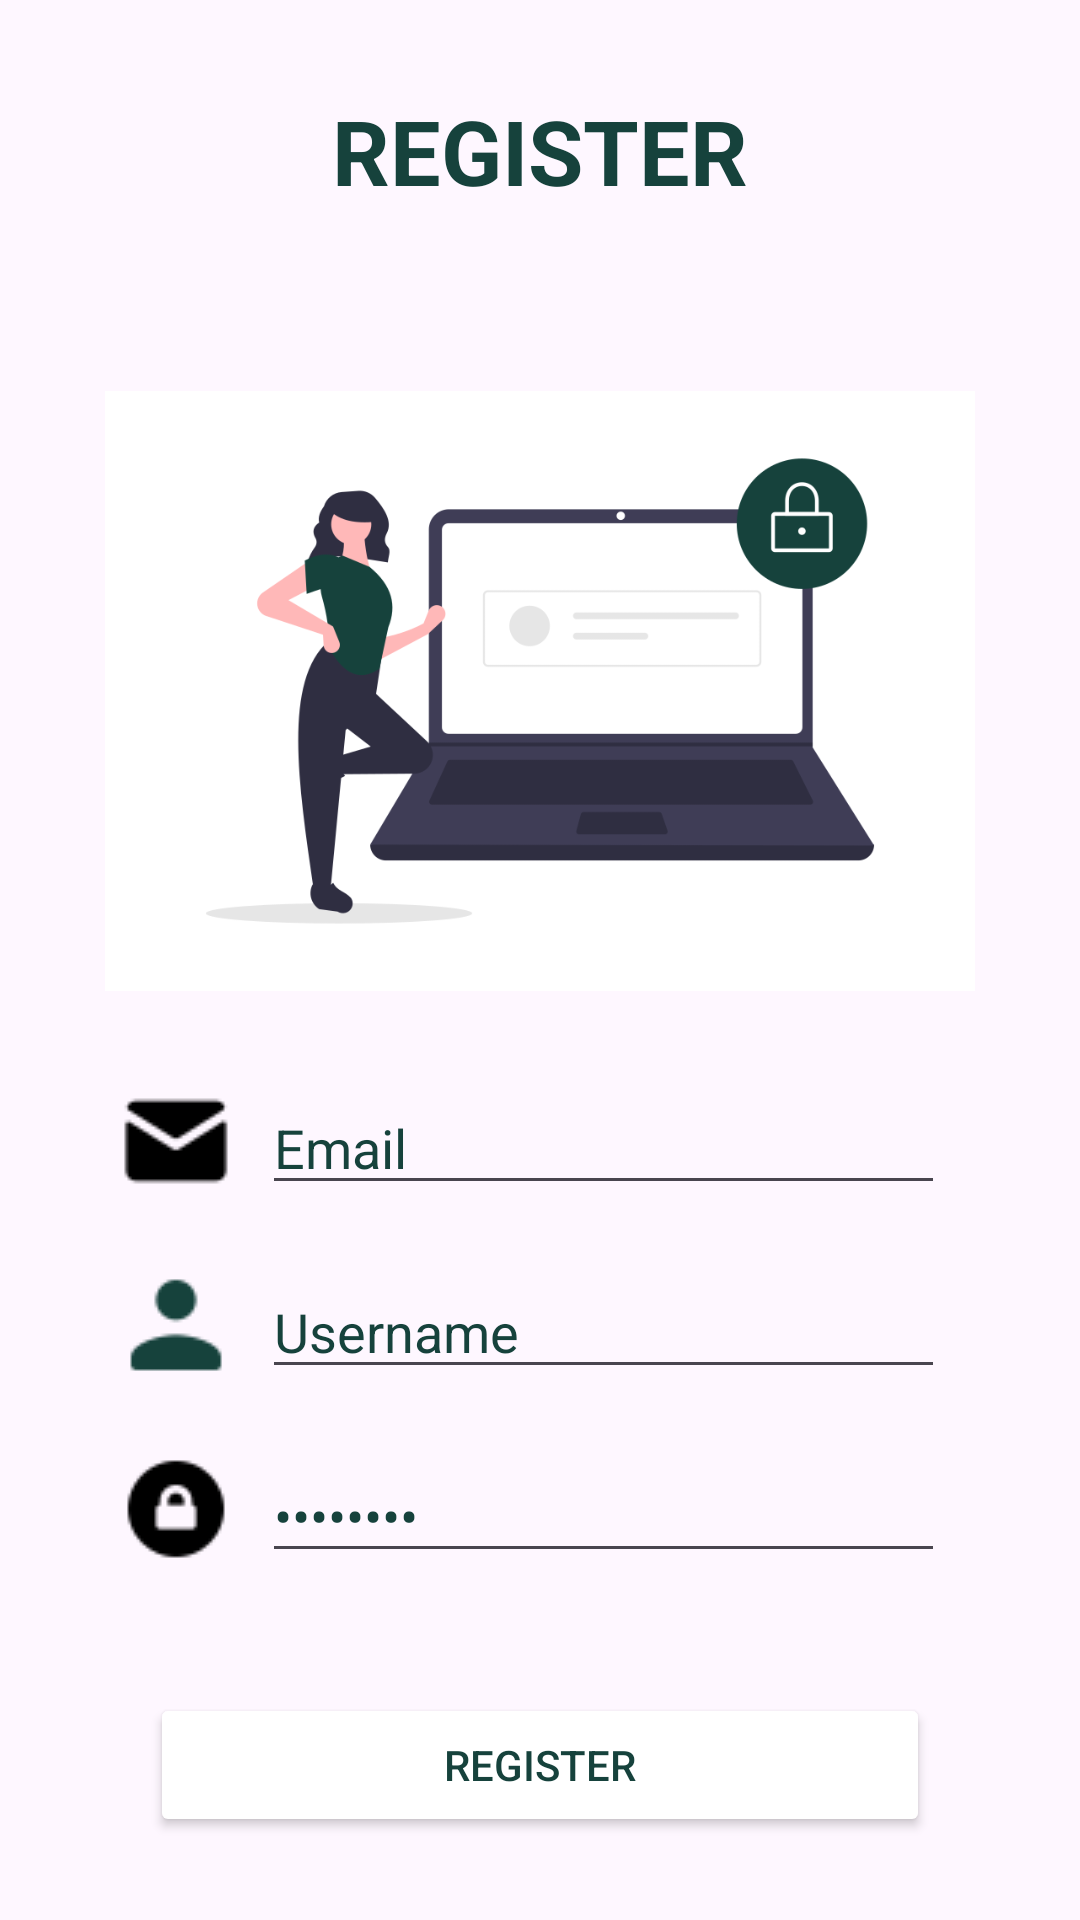

Locate icon controls on the screen. Image size 1080 x 1920, boxes as (x1, y1, x2, y2).
passs: (127, 1460, 225, 1558)
usr: (130, 1279, 222, 1371)
